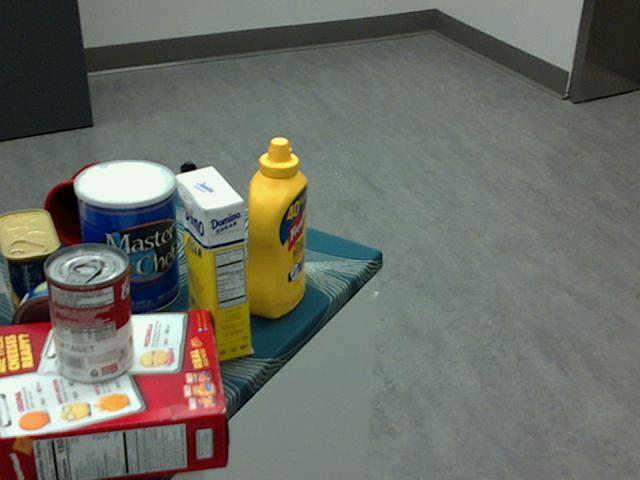cracker_box: (0, 310, 228, 479)
large_marker: (180, 160, 200, 255)
master_chef_can: (72, 159, 178, 318)
mug: (42, 162, 134, 251)
mustard_bottle: (244, 136, 306, 318)
potted_meat_can: (0, 207, 65, 320)
sugar_box: (176, 165, 250, 363)
tomato_soup_can: (43, 244, 132, 384)
tuna_fish_can: (11, 279, 106, 369)
